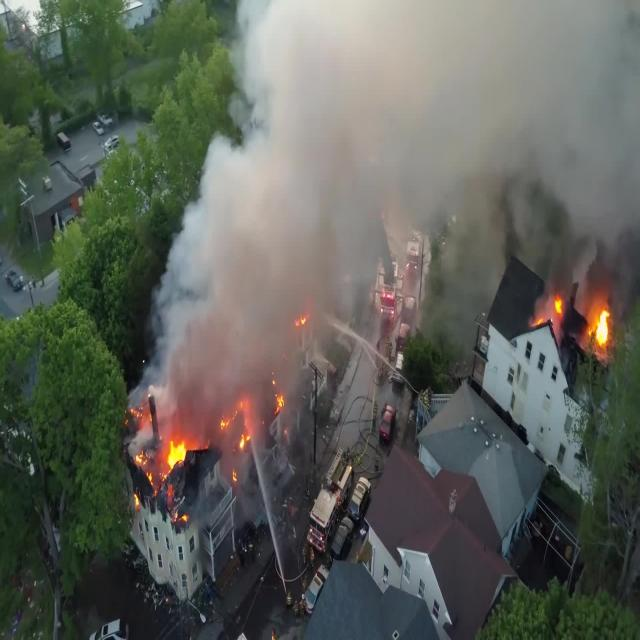Fire: (127, 371, 284, 529), (528, 292, 566, 342), (587, 305, 615, 357), (289, 300, 311, 343)
Smoke: (139, 0, 640, 452)
